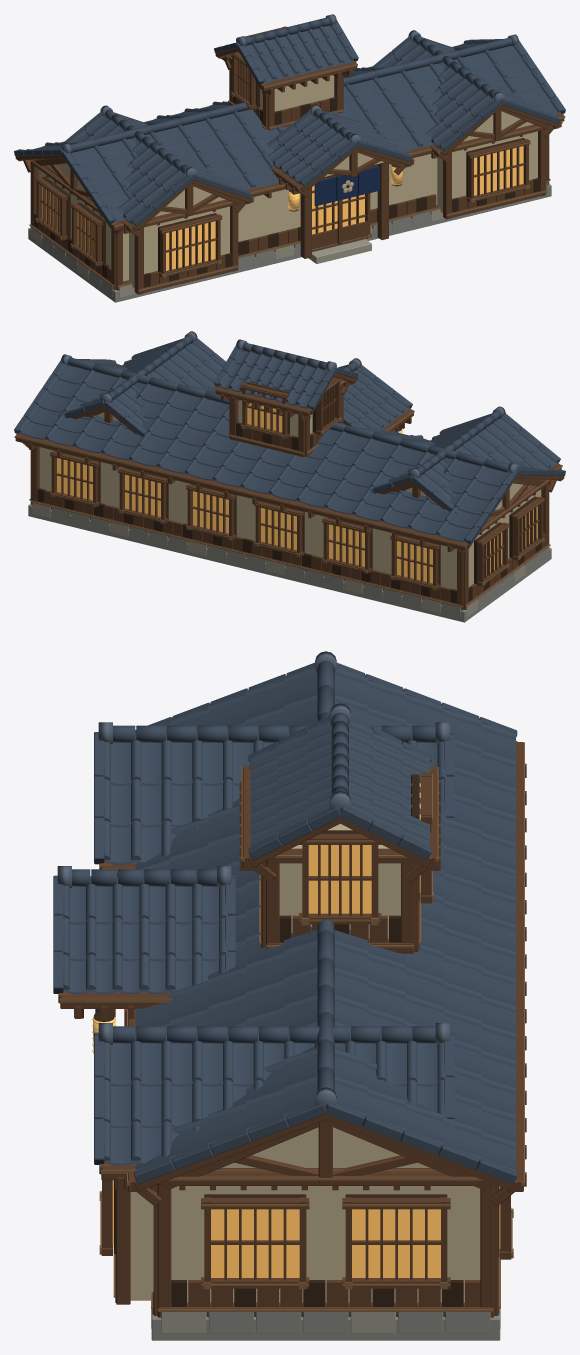
3 views of the same model, one above another, from view 1: azimuth 30°, elevation 25°; view 2: azimuth 150°, elevation 25°; view 3: azimuth 270°, elevation 25° (orthographic). The views are drawn at different scales.
Visible parts, largest first — view 1: compact_skyscraper_1_geometry, compact_skyscraper_1_geometry ceramic; view 2: compact_skyscraper_1_geometry ceramic, compact_skyscraper_1_geometry; view 3: compact_skyscraper_1_geometry ceramic, compact_skyscraper_1_geometry.
Part boxes in pixels (<box>): compact_skyscraper_1_geometry: <box>15,26,565,302</box>; compact_skyscraper_1_geometry ceramic: <box>14,14,565,226</box>; compact_skyscraper_1_geometry ceramic: <box>14,331,565,544</box>; compact_skyscraper_1_geometry: <box>14,343,564,622</box>; compact_skyscraper_1_geometry ceramic: <box>53,651,517,1184</box>; compact_skyscraper_1_geometry: <box>58,728,526,1340</box>.
Bounding box in the file's own units: 2.27 × 0.8981 × 1.02.
